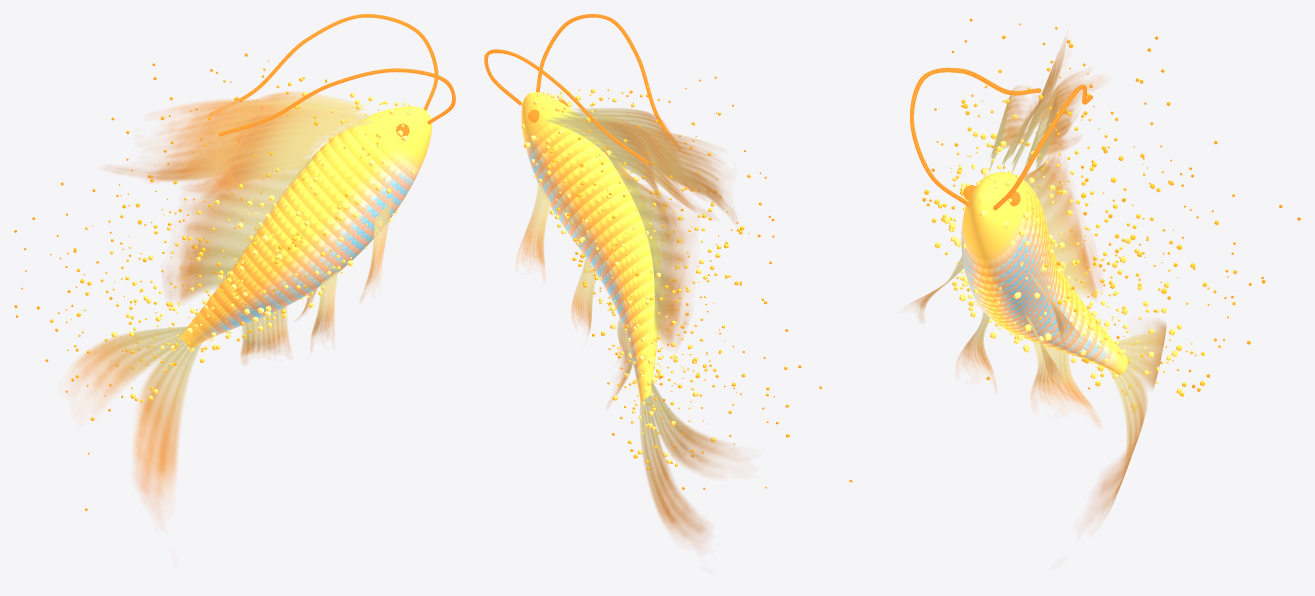
Rendered from carp-dragon-gold.glb.
3 views of the same model, side by side, from view 1: azimuth 30°, elevation 25°; view 2: azimuth 150°, elevation 25°; view 3: azimuth 270°, elevation 25° (orthographic). The views are drawn at different scales.
Parts seen in each view (by area): view 1: koi_body, koi_fin_tail, koi_fin_dorsal, koi_flame_mane_3, koi_flame_mane_5, koi_embers, koi_flame_mane_2, koi_flame_mane_1, koi_fin_anal, koi_whisker_L, koi_whisker_R, koi_fin_pelvic_L (+2 smaller); view 2: koi_body, koi_fin_tail, koi_embers, koi_fin_dorsal, koi_flame_mane_3, koi_flame_mane_1, koi_flame_mane_4, koi_fin_pectoral_R, koi_flame_mane_5, koi_whisker_L, koi_fin_pelvic_R, koi_whisker_R (+2 smaller); view 3: koi_body, koi_embers, koi_fin_tail, koi_fin_dorsal, koi_fin_anal, koi_flame_mane_1, koi_whisker_L, koi_flame_mane_3, koi_flame_mane_5, koi_fin_pelvic_L, koi_flame_mane_4, koi_whisker_R (+1 smaller).
Part boxes in pixels (bbox=[...]): koi_body: bbox=[180, 106, 431, 348]; koi_fin_tail: bbox=[70, 326, 201, 512]; koi_fin_dorsal: bbox=[166, 154, 318, 302]; koi_flame_mane_3: bbox=[114, 99, 370, 181]; koi_flame_mane_5: bbox=[201, 110, 375, 189]; koi_embers: bbox=[14, 53, 432, 510]; koi_flame_mane_2: bbox=[189, 104, 370, 192]; koi_flame_mane_1: bbox=[154, 99, 368, 181]; koi_fin_anal: bbox=[240, 306, 290, 362]; koi_whisker_L: bbox=[219, 68, 455, 136]; koi_whisker_R: bbox=[209, 14, 438, 116]; koi_fin_pelvic_L: bbox=[310, 271, 337, 348]; koi_body: bbox=[521, 92, 661, 402]; koi_fin_tail: bbox=[640, 379, 735, 545]; koi_embers: bbox=[521, 76, 852, 489]; koi_fin_dorsal: bbox=[609, 158, 691, 346]; koi_flame_mane_3: bbox=[558, 114, 735, 221]; koi_flame_mane_1: bbox=[550, 117, 712, 218]; koi_flame_mane_4: bbox=[543, 119, 668, 206]; koi_fin_pectoral_R: bbox=[516, 182, 550, 279]; koi_flame_mane_5: bbox=[572, 108, 704, 199]; koi_whisker_L: bbox=[536, 14, 681, 149]; koi_fin_pelvic_R: bbox=[571, 258, 597, 336]; koi_whisker_R: bbox=[484, 49, 648, 164]; koi_body: bbox=[961, 172, 1127, 374]; koi_embers: bbox=[922, 18, 1300, 412]; koi_fin_tail: bbox=[1090, 321, 1166, 520]; koi_fin_dorsal: bbox=[1023, 152, 1100, 299]; koi_fin_anal: bbox=[1031, 341, 1099, 423]; koi_flame_mane_1: bbox=[1024, 72, 1082, 168]; koi_whisker_L: bbox=[910, 67, 1041, 206]; koi_flame_mane_3: bbox=[1011, 38, 1097, 173]; koi_flame_mane_5: bbox=[989, 86, 1033, 171]; koi_fin_pelvic_L: bbox=[956, 311, 996, 388]; koi_flame_mane_4: bbox=[1034, 93, 1079, 177]; koi_whisker_R: bbox=[993, 84, 1092, 210].
Size of the model in its own units: 12.42 by 15.18 by 9.66.
6 materials, 3 textured.
